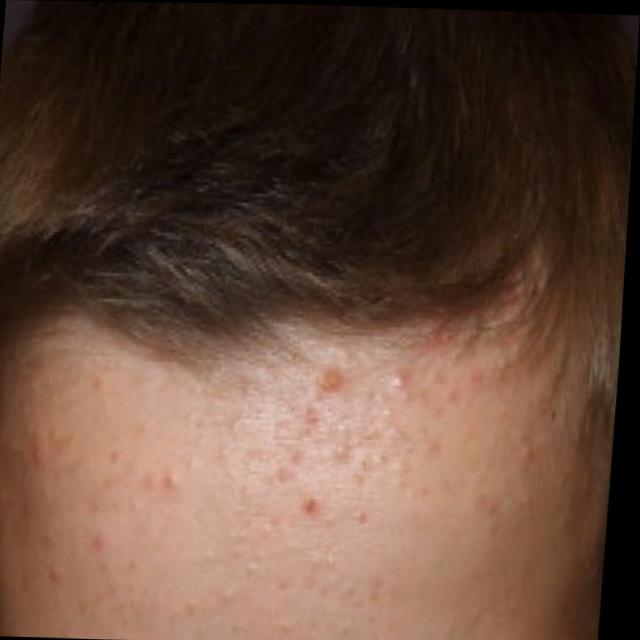Acne: (114, 331, 395, 540)
